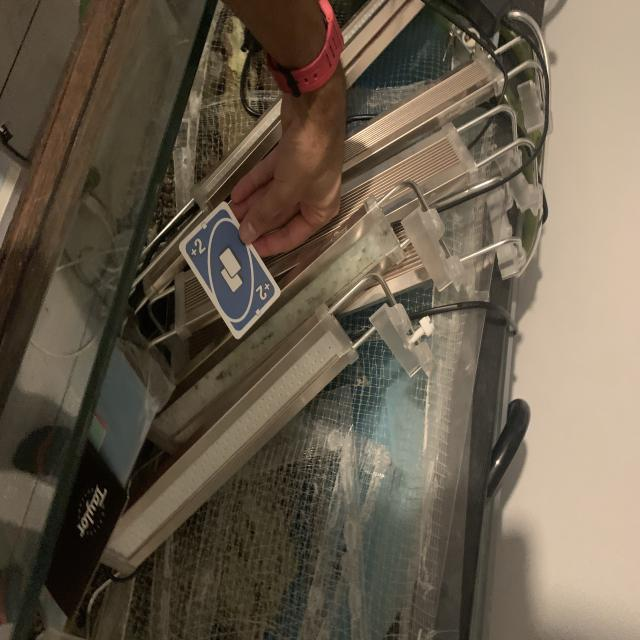lblue-20: (186, 235, 208, 263)
